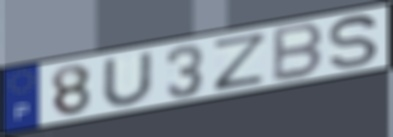3: (164, 42, 206, 101)
8: (50, 63, 93, 117)
B: (270, 20, 326, 85)
S: (327, 14, 382, 70)
U: (100, 49, 157, 107)
Z: (211, 29, 270, 94)
